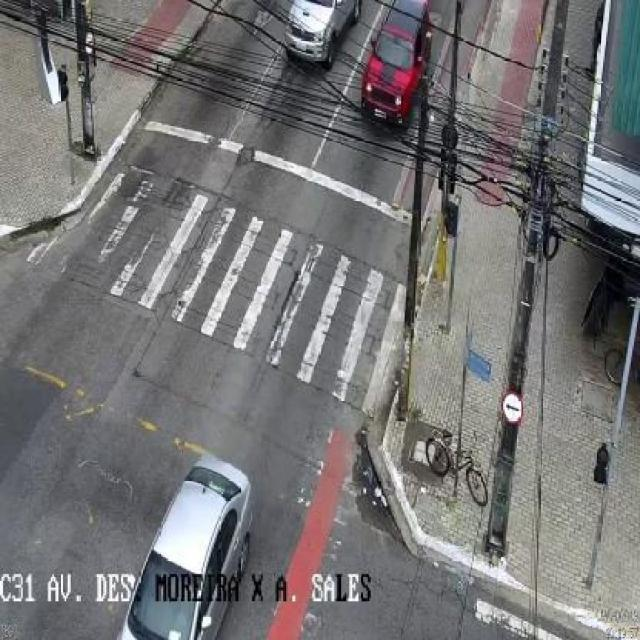Car: (117, 457, 255, 640), (358, 0, 434, 129), (286, 0, 362, 68)
Cycle: (424, 428, 491, 507)
